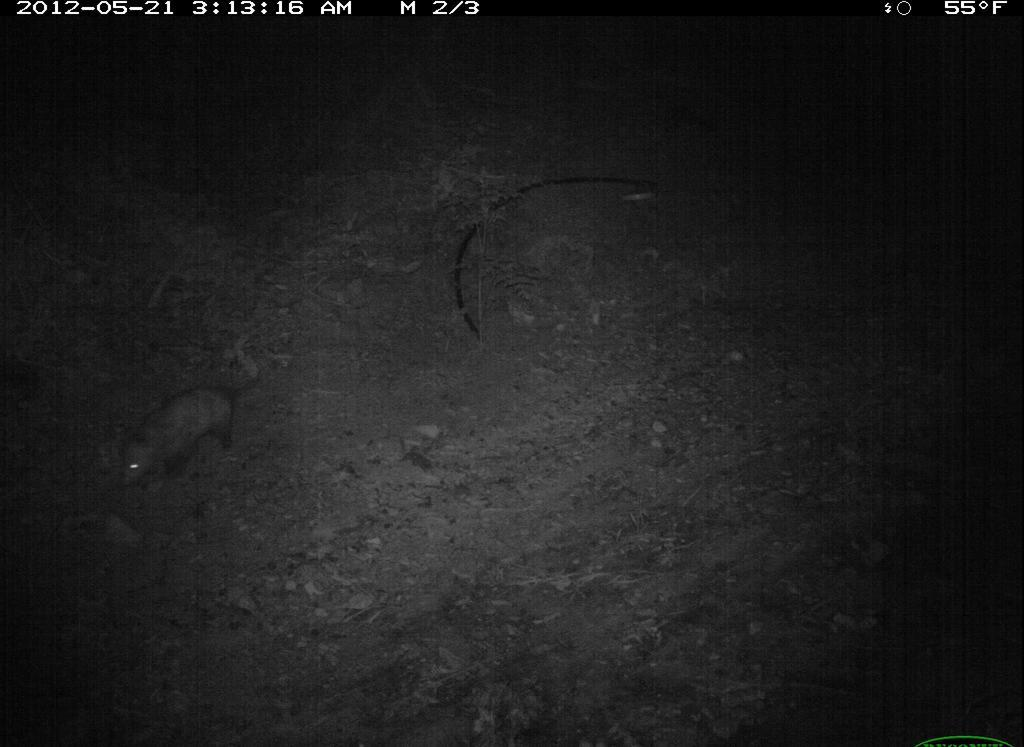opossum: (113, 369, 269, 493)
